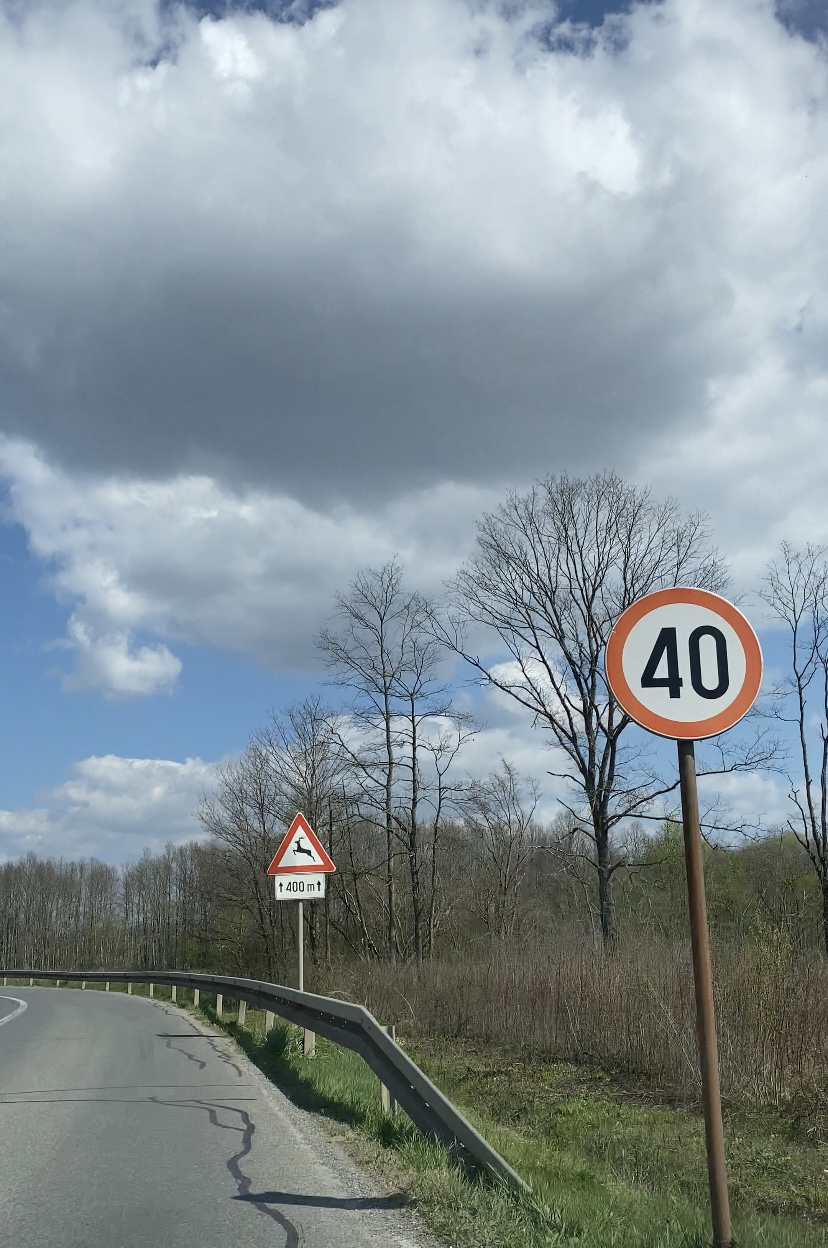Divljač na cesti: (266, 812, 336, 875)
Ograničenje brzine 40: (604, 587, 764, 740)
